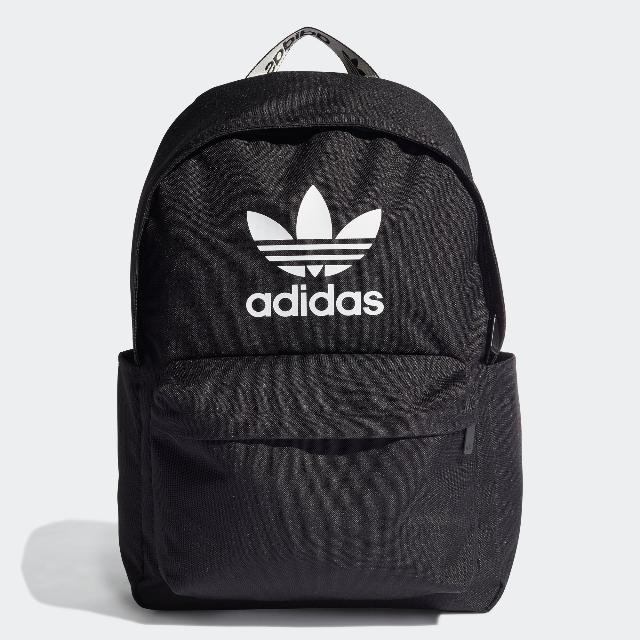Adidas: (238, 176, 394, 328), (242, 180, 392, 282), (242, 283, 388, 321)
